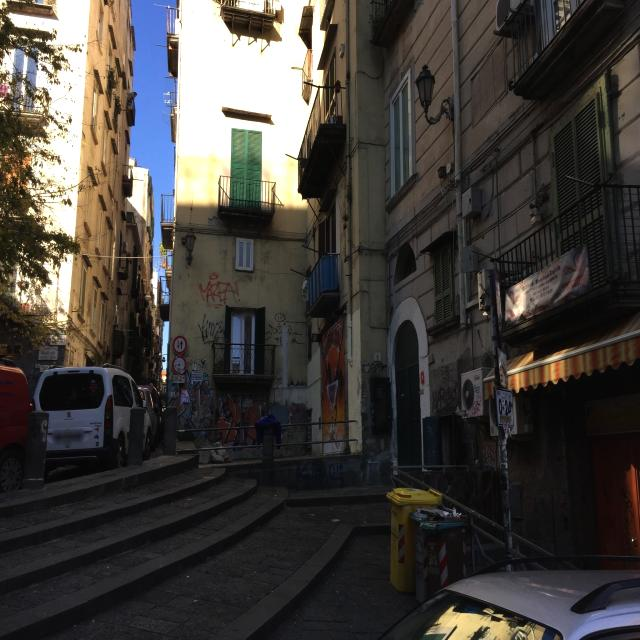car: (34, 364, 154, 474), (0, 346, 42, 498)
